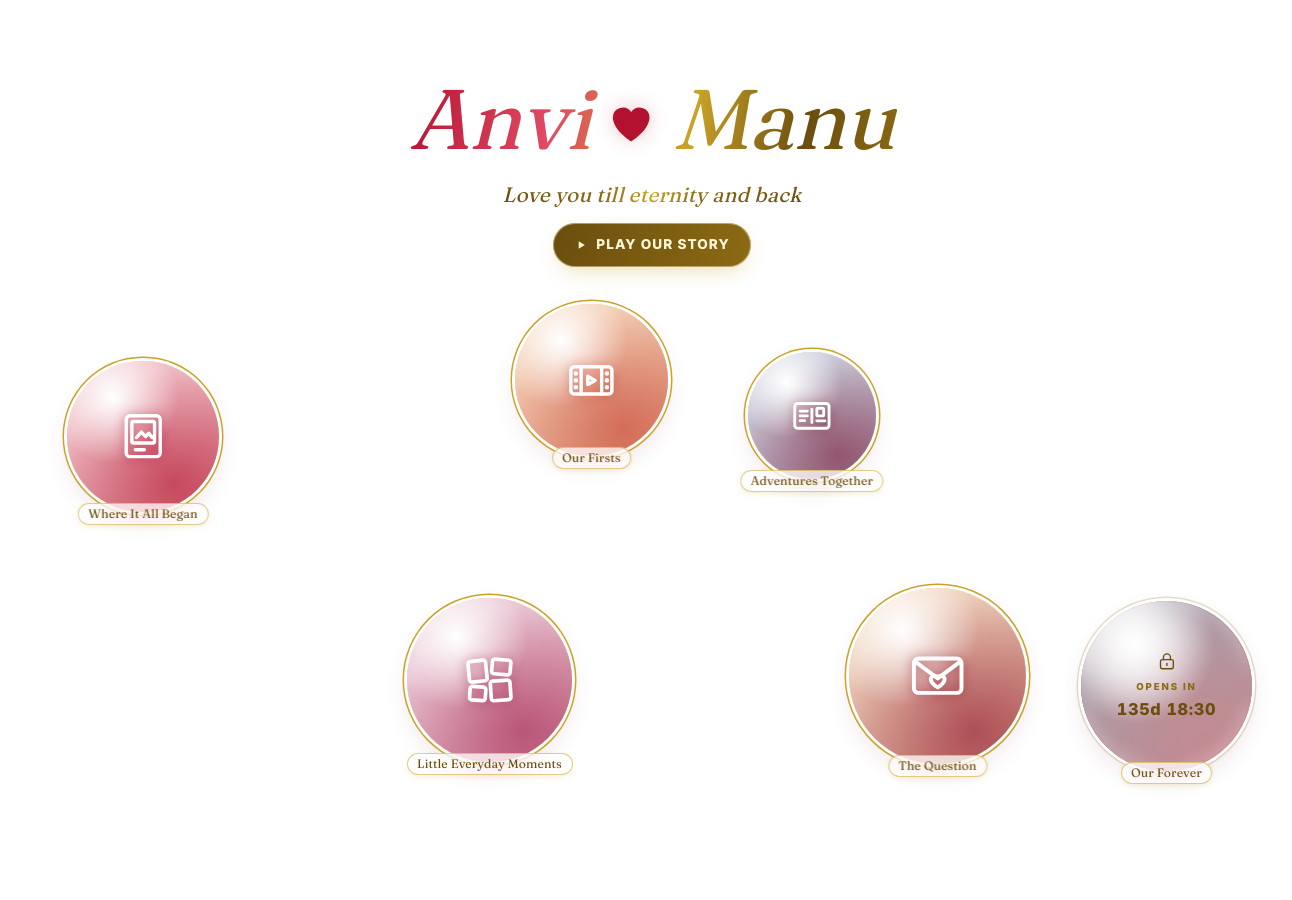
it: Launcher orbs › clicking an unlocked chapter navigates to its world
Click the button named "Our Firsts" at (592, 380), box top-left (516, 304), bottom-right (668, 457)
(page scrolled)
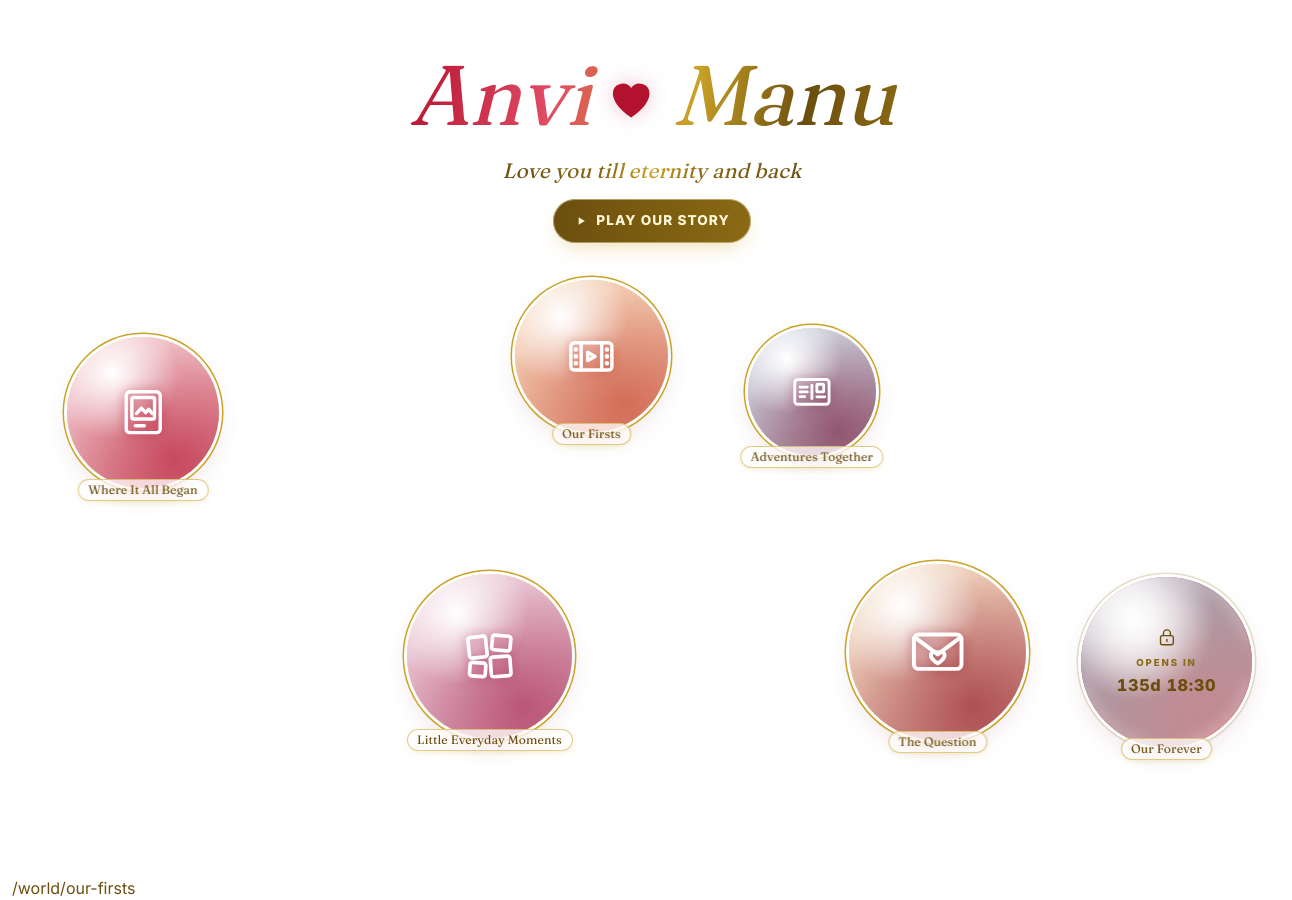
Expected: the text with test id "where" reads "/world/our-firsts", top-left (12, 878), bottom-right (136, 898)
